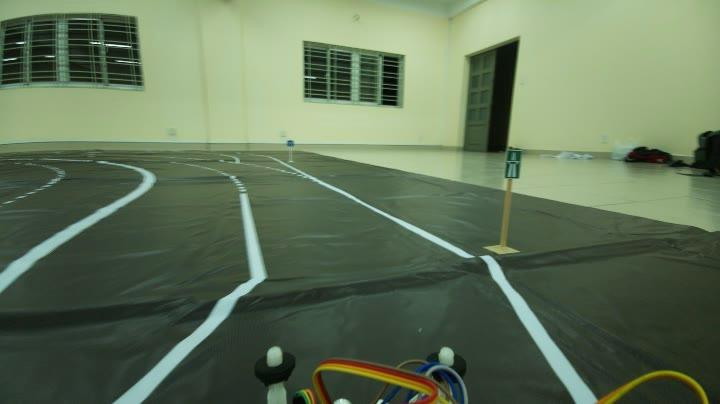highway_entry: (500, 146, 530, 186)
